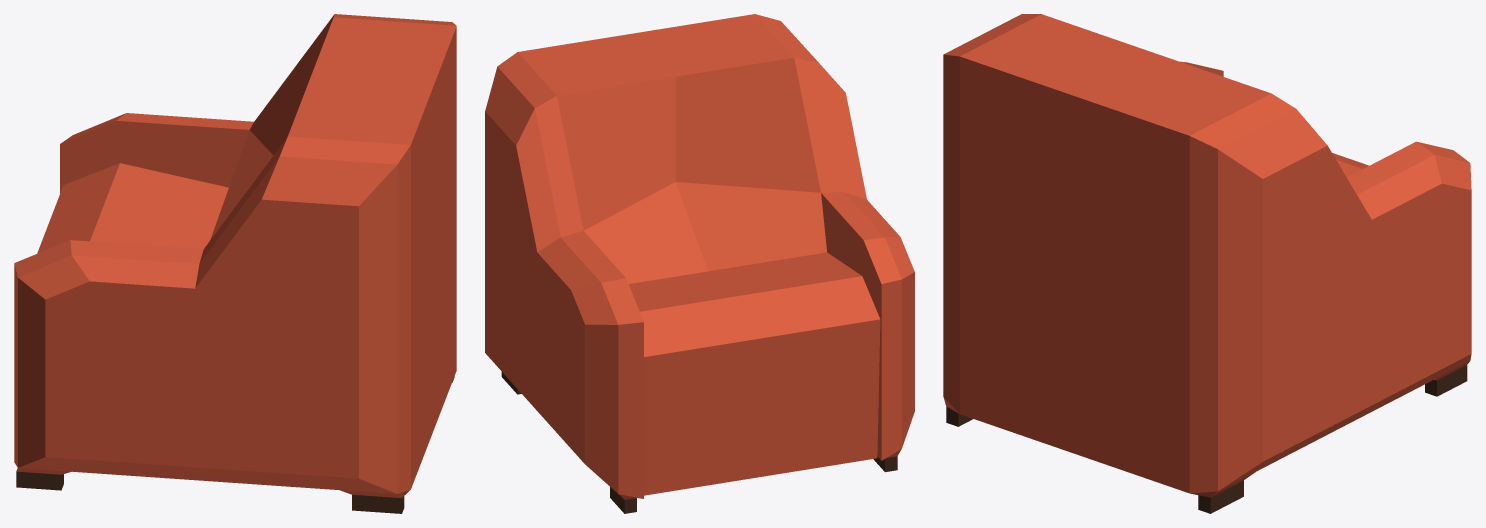
The model's file is ArmChair.fbx.
3 renders of one model, left to right at view 1: azimuth 30°, elevation 25°; view 2: azimuth 150°, elevation 25°; view 3: azimuth 270°, elevation 25°, orthographic. The views are drawn at different scales.
Parts seen in each view (by area): view 1: ArmChair; view 2: ArmChair; view 3: ArmChair.
Part boxes in pixels (<box>): ArmChair: <box>14,14,456,513</box>; ArmChair: <box>485,14,914,513</box>; ArmChair: <box>943,14,1471,513</box>.
Size of the model in its own units: 3565 by 2758 by 3530.
1 material, 1 textured.
